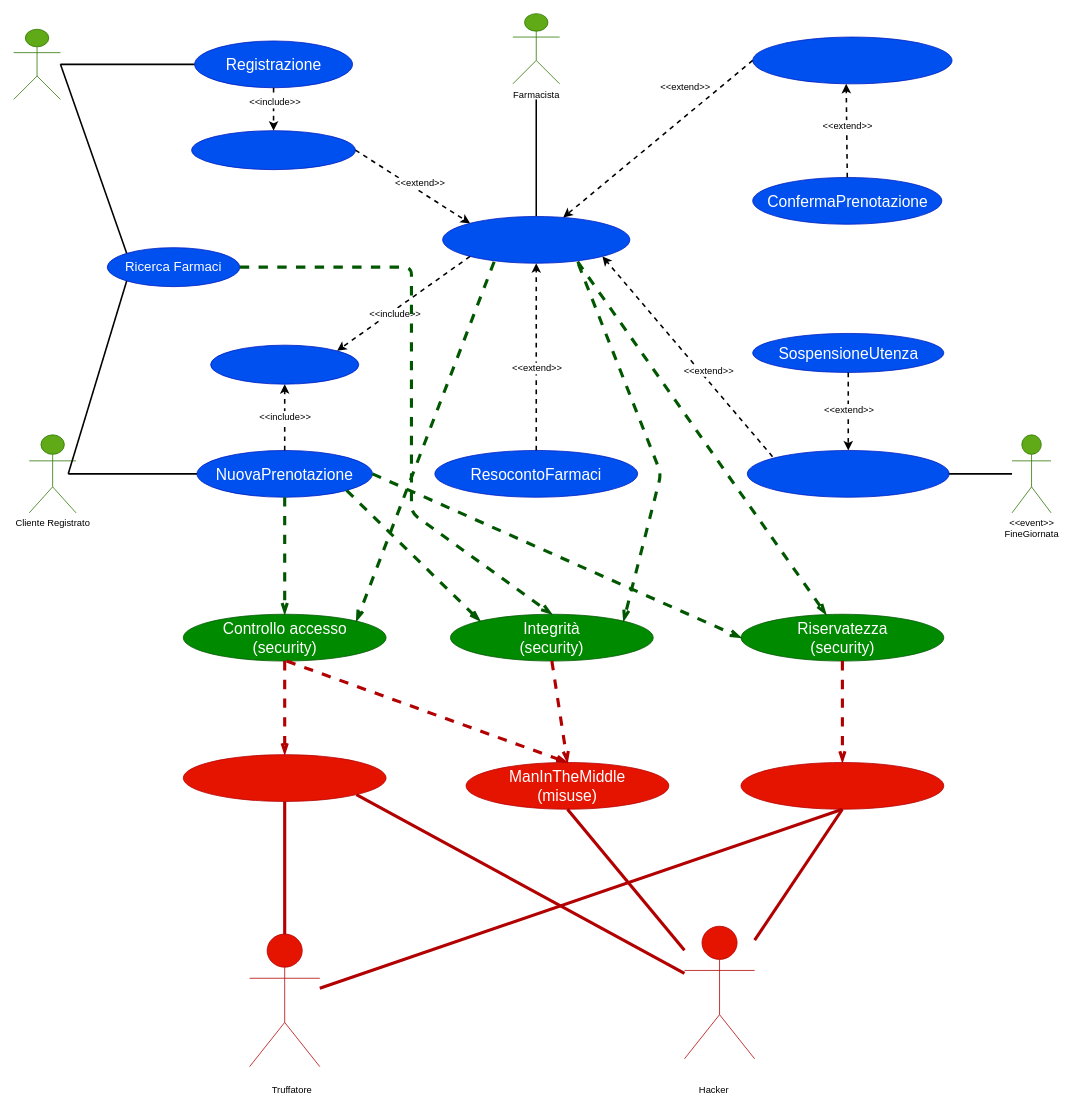
This 1072x1112 diagram has some shape labels left out. The box of each missing label's shape, as (x1, y1, x2, y2) in pixels:
Cliente: (13, 28, 60, 99)
ControlloPrenotazioni: (752, 36, 952, 84)
FurtoCredenziali (misuse): (183, 754, 386, 801)
GestioneFarmacia: (442, 216, 630, 263)
Login: (210, 344, 359, 384)
ResocontoUtenti: (747, 450, 949, 497)
Sniffing (misuse): (740, 762, 944, 809)
VerificaIdentità: (191, 130, 355, 170)
